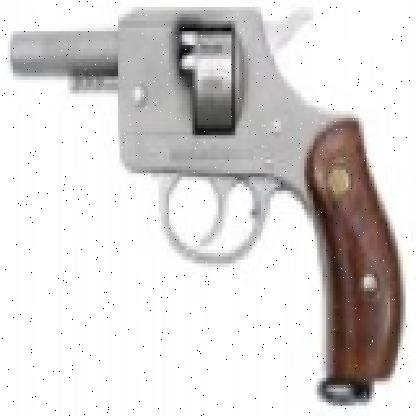pistol: (10, 3, 408, 391)
